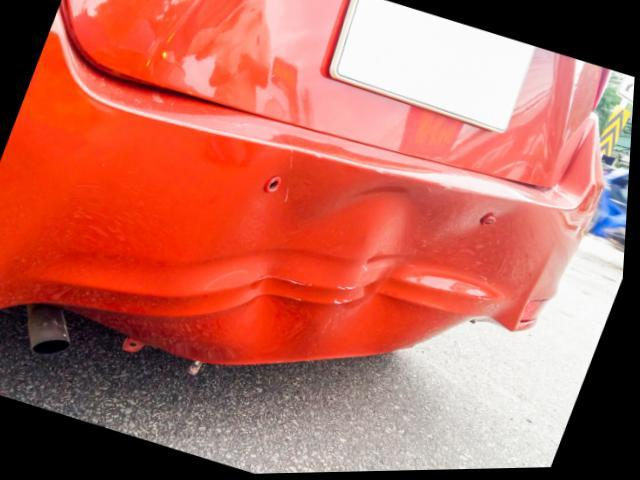dent: (229, 186, 528, 364)
